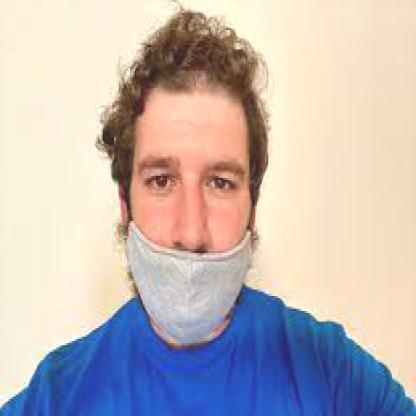mask_weared_incorrect: (114, 62, 265, 347)
